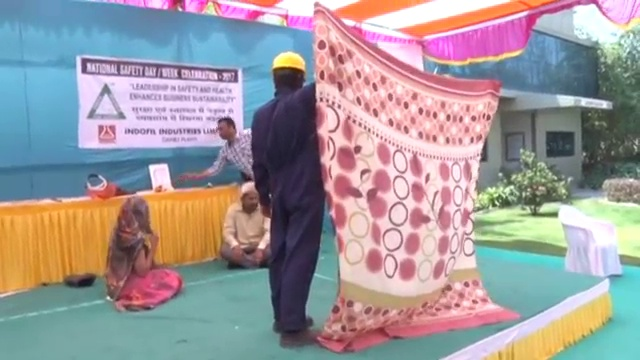helmet: (270, 50, 307, 72)
helmet_off: (122, 196, 149, 224), (240, 182, 260, 214), (217, 117, 236, 141)
helmet_on: (269, 49, 310, 95)
person: (248, 47, 328, 346), (106, 195, 182, 314), (179, 117, 261, 184), (223, 182, 277, 270)
